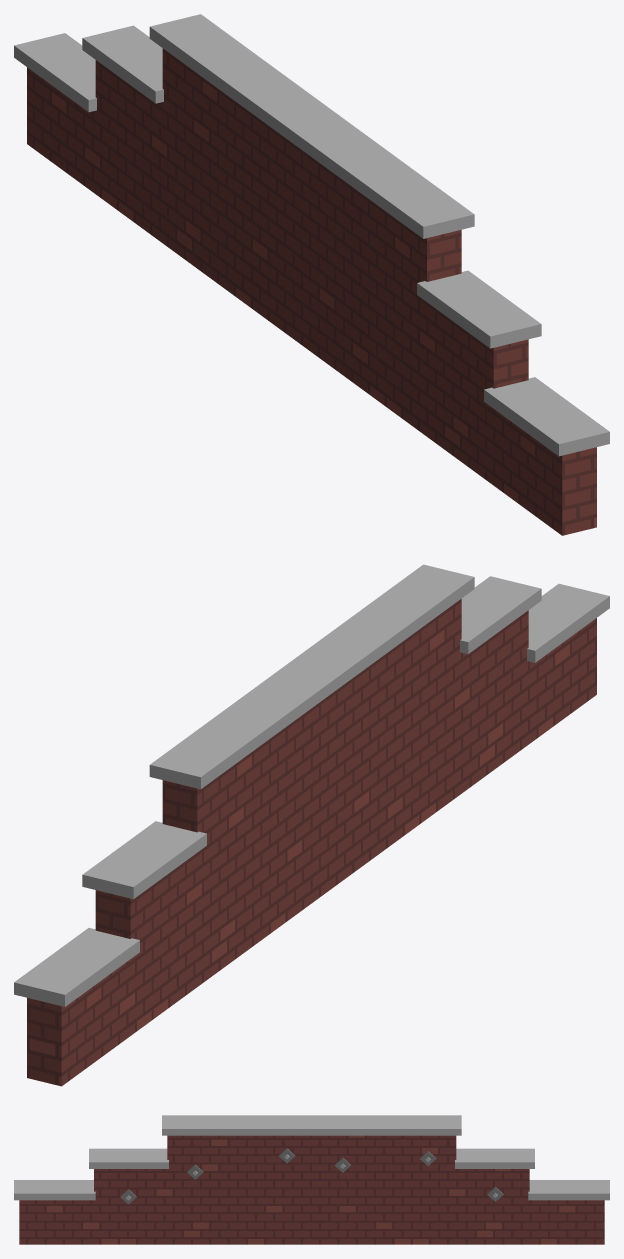
The model's file is SM_shopTop_01.glb.
3 renders of one model, top to bottom at view 1: azimuth 30°, elevation 25°; view 2: azimuth 150°, elevation 25°; view 3: azimuth 270°, elevation 25°, orthographic. The views are drawn at different scales.
Visible parts, largest first — view 1: SM_shopTop_01; view 2: SM_shopTop_01; view 3: SM_shopTop_01.
Boxes of the visible parts, x1,y1,x2,y2 form: SM_shopTop_01: [14, 14, 609, 535]; SM_shopTop_01: [14, 564, 609, 1086]; SM_shopTop_01: [14, 1115, 609, 1244].
Bounding box in the file's own units: 0.4414 × 1.77 × 8.14.
Materials: 2 (2 with a texture image).
